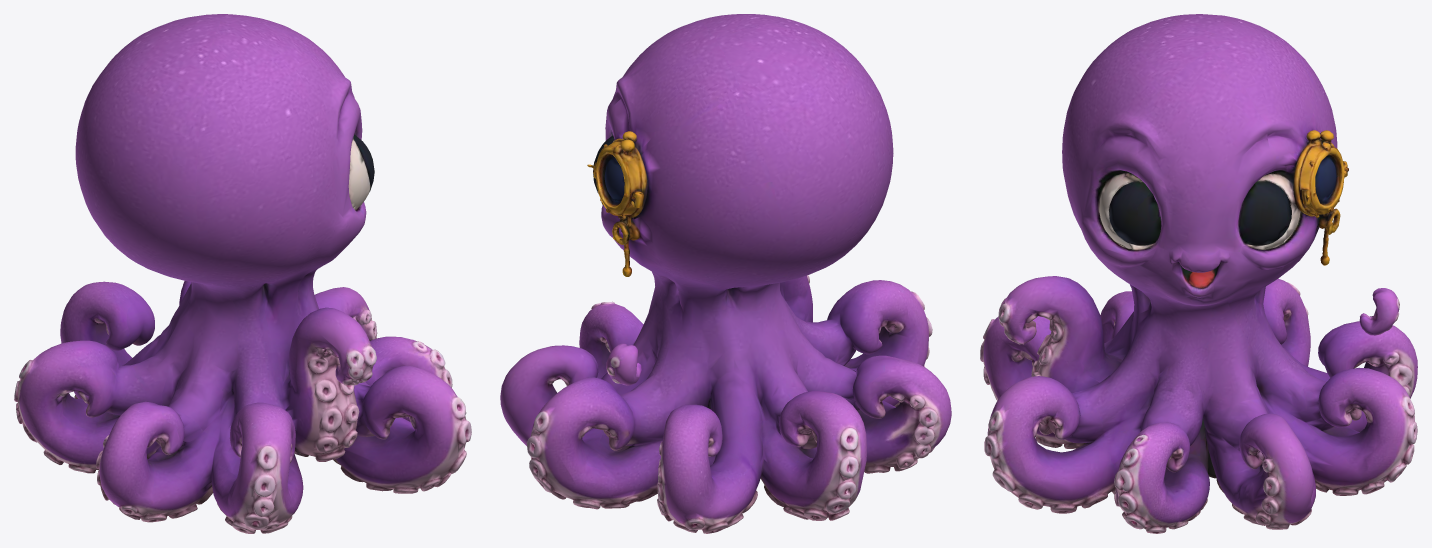
Rendered from cast_nyx.glb.
The picture shows the model from 3 angles, left to right: view 1: azimuth 30°, elevation 25°; view 2: azimuth 150°, elevation 25°; view 3: azimuth 270°, elevation 25°; orthographic projection. The views are drawn at different scales.
Parts seen in each view (by area): view 1: tripo_node_242fb8d1-8e54-407a-8e6e-b6983c914ed0; view 2: tripo_node_242fb8d1-8e54-407a-8e6e-b6983c914ed0; view 3: tripo_node_242fb8d1-8e54-407a-8e6e-b6983c914ed0.
Part boxes in pixels (x1,y1,x2,y2): tripo_node_242fb8d1-8e54-407a-8e6e-b6983c914ed0: [14, 14, 471, 533]; tripo_node_242fb8d1-8e54-407a-8e6e-b6983c914ed0: [500, 14, 951, 533]; tripo_node_242fb8d1-8e54-407a-8e6e-b6983c914ed0: [980, 14, 1417, 533].
Size of the model in its own units: 0.8322 by 0.9798 by 0.9072.
1 material, 1 textured.
